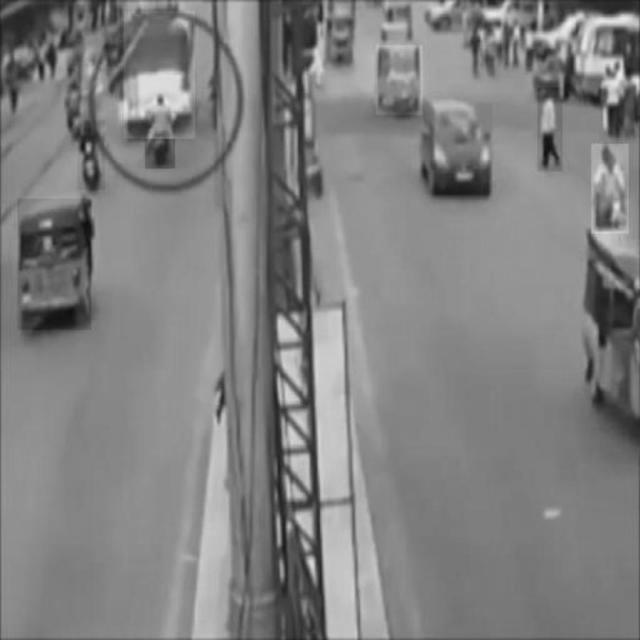person: (537, 88, 562, 171)
vehicle: (18, 199, 91, 330), (124, 11, 195, 139), (424, 102, 492, 195), (593, 144, 630, 234), (377, 44, 423, 115), (145, 95, 175, 168), (78, 120, 105, 190)
